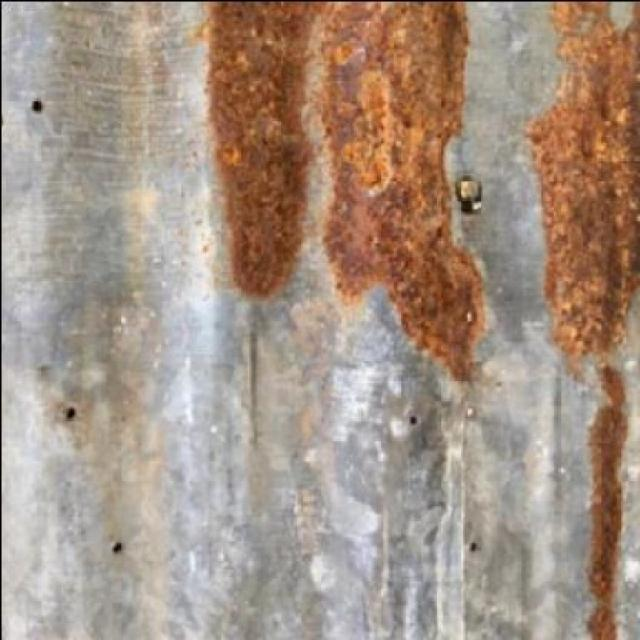Uniform Corrosion: (208, 2, 481, 377), (527, 3, 639, 639)
